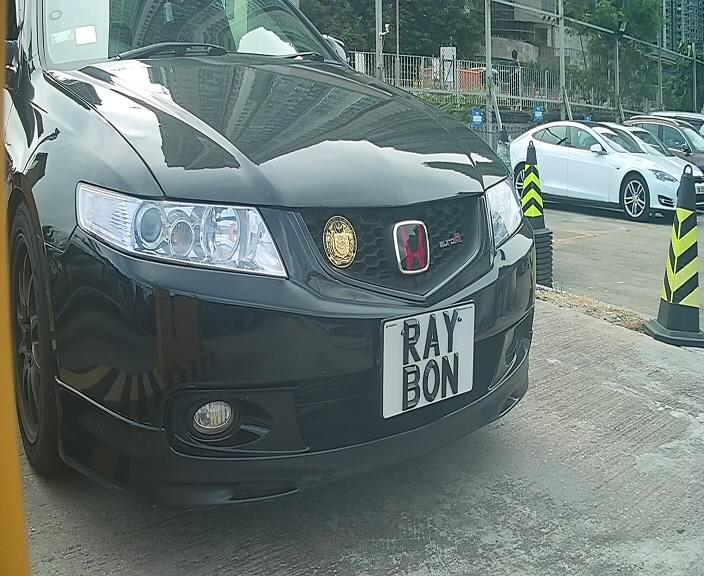License Plate: (378, 296, 478, 425)
